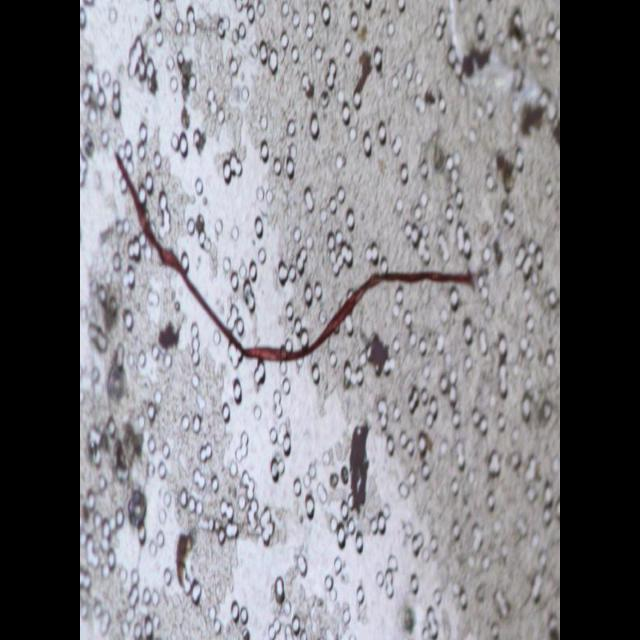Fibre: (112, 141, 486, 391)
